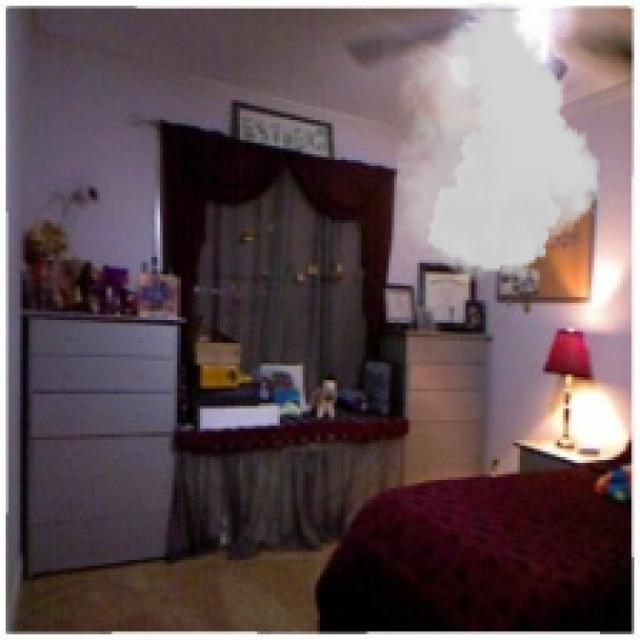Smoke: (397, 3, 600, 283)
